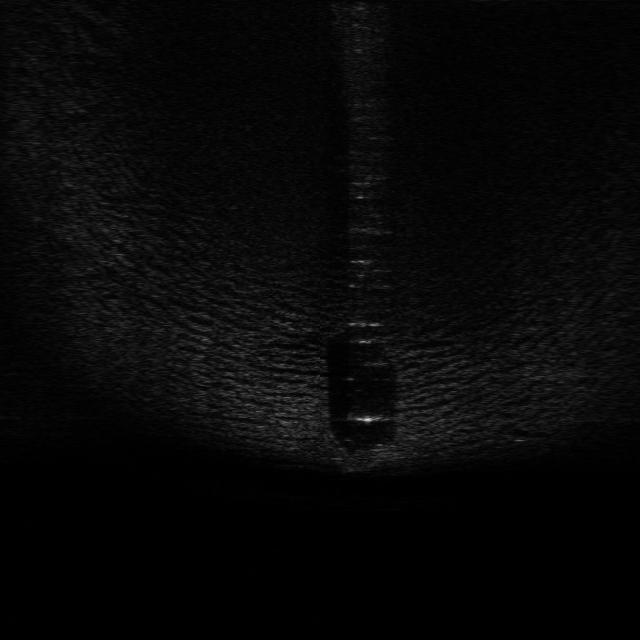cube: (334, 443, 390, 473)
